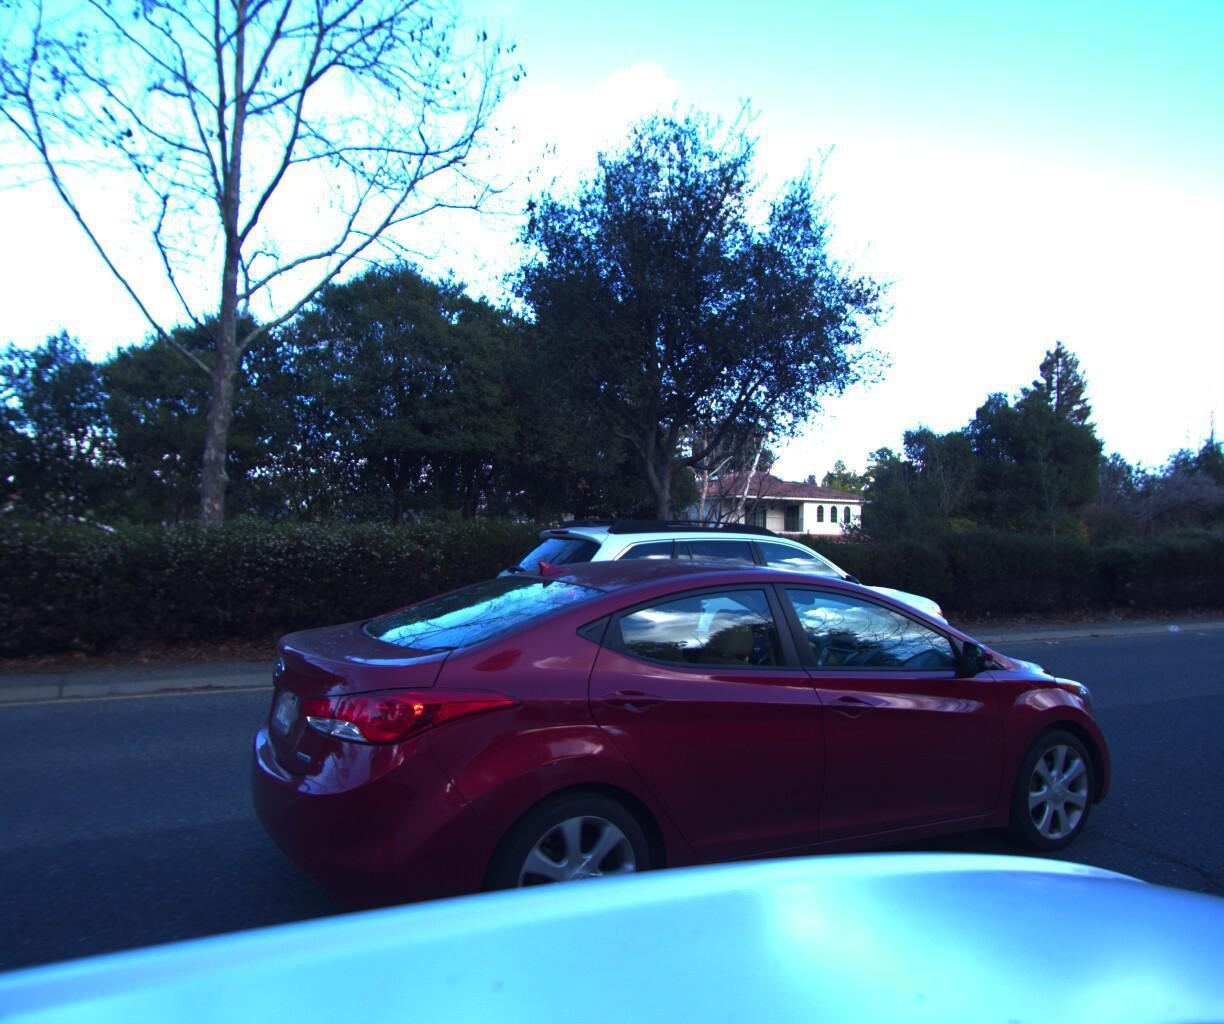car: (227, 539, 1137, 1024), (456, 503, 961, 748)
